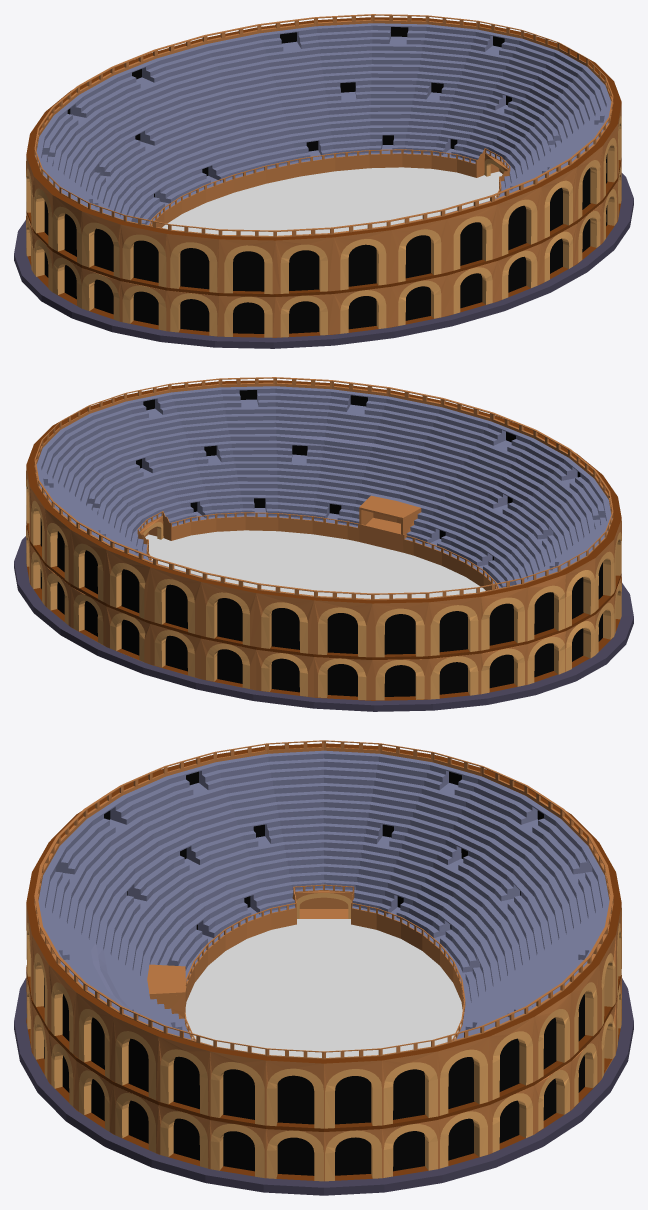
File: Arena Klein.fbx
3 renders of one model, top to bottom at view 1: azimuth 30°, elevation 25°; view 2: azimuth 150°, elevation 25°; view 3: azimuth 270°, elevation 25°, orthographic. The views are drawn at different scales.
Parts seen in each view (by area): view 1: Arena; view 2: Arena; view 3: Arena.
Part boxes in pixels (box(x1,y1,x2,y2)): Arena: box(14, 14, 633, 348); Arena: box(14, 377, 633, 711); Arena: box(14, 740, 633, 1195).
Size of the model in its own units: 9706 by 1804 by 7626.
